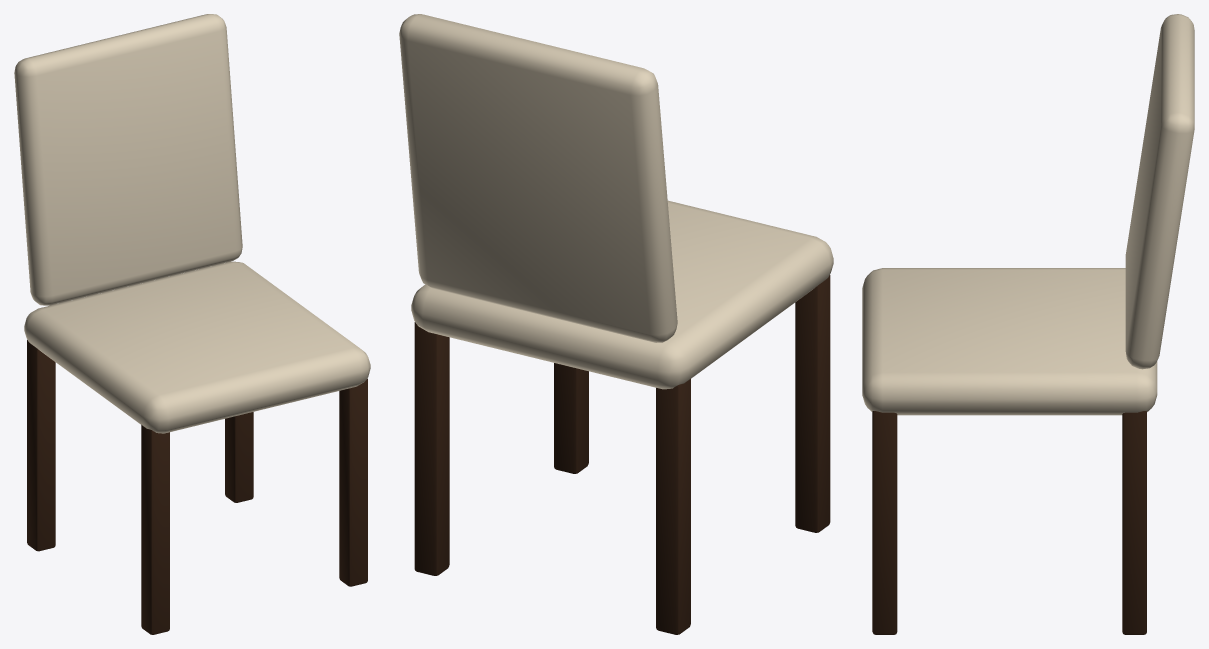
File: marlin_chair.glb
3 views of the same model, side by side, from view 1: azimuth 30°, elevation 25°; view 2: azimuth 150°, elevation 25°; view 3: azimuth 270°, elevation 25° (orthographic). The views are drawn at different scales.
Parts seen in each view (by area): view 1: marlin_chair; view 2: marlin_chair; view 3: marlin_chair.
Part boxes in pixels (<box>): marlin_chair: <box>14,14,370,634</box>; marlin_chair: <box>399,14,833,634</box>; marlin_chair: <box>862,14,1194,634</box>.
Bounding box in the file's own units: 0.5 × 0.9997 × 0.5858.
